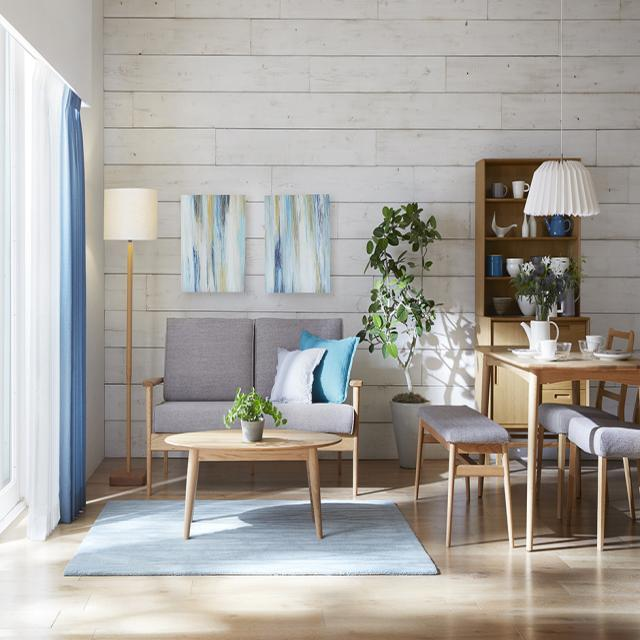natural chair: (414, 404, 520, 556), (566, 416, 640, 553)
natural desk: (474, 336, 640, 554), (165, 427, 341, 541)
natural shelf: (468, 154, 592, 341)
natural sofa: (142, 311, 362, 428)
